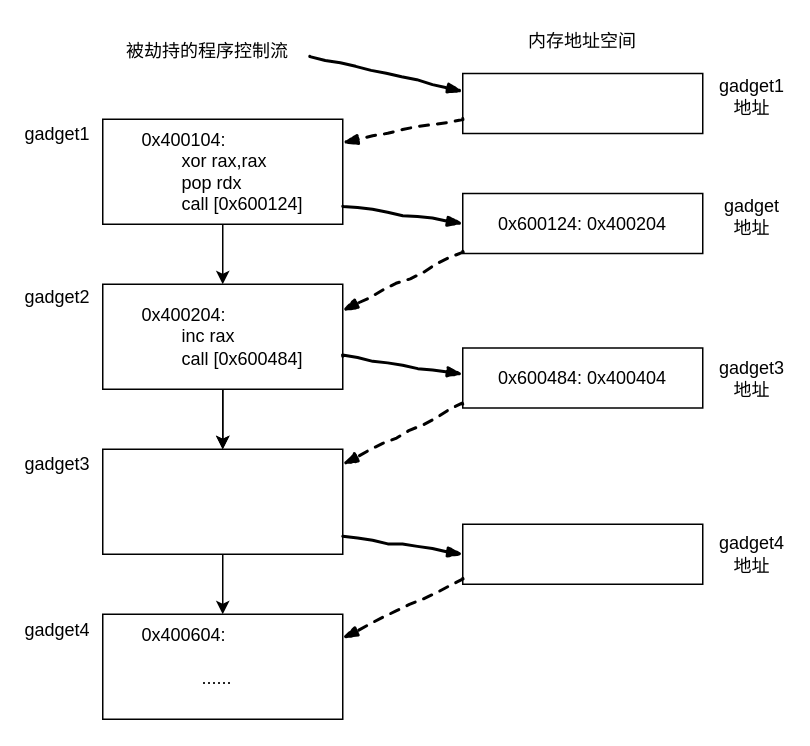
The diagram is 810 pixels wide and 746 high, and some of its shapes have lost their labels. Each missing label, with the centre of its shape:
0x400404: mov rbx, rax nop call [0x600684]: the point at 222,501
0x600024: 0x400104: the point at 582,103
0x600684: 0x400604: the point at 582,553
